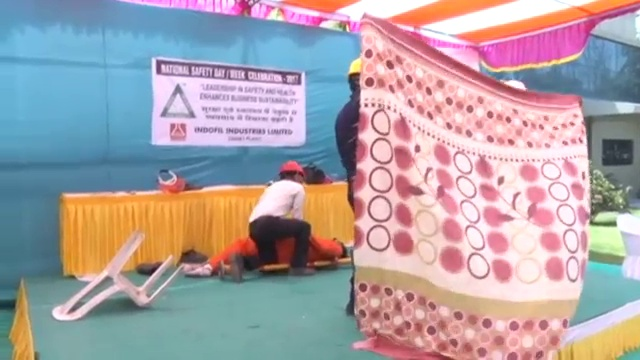helmet: (279, 158, 306, 178), (347, 57, 363, 75)
helmet_on: (344, 56, 363, 99), (277, 158, 307, 185)
person: (229, 158, 315, 283), (186, 234, 347, 280), (332, 56, 372, 208)
